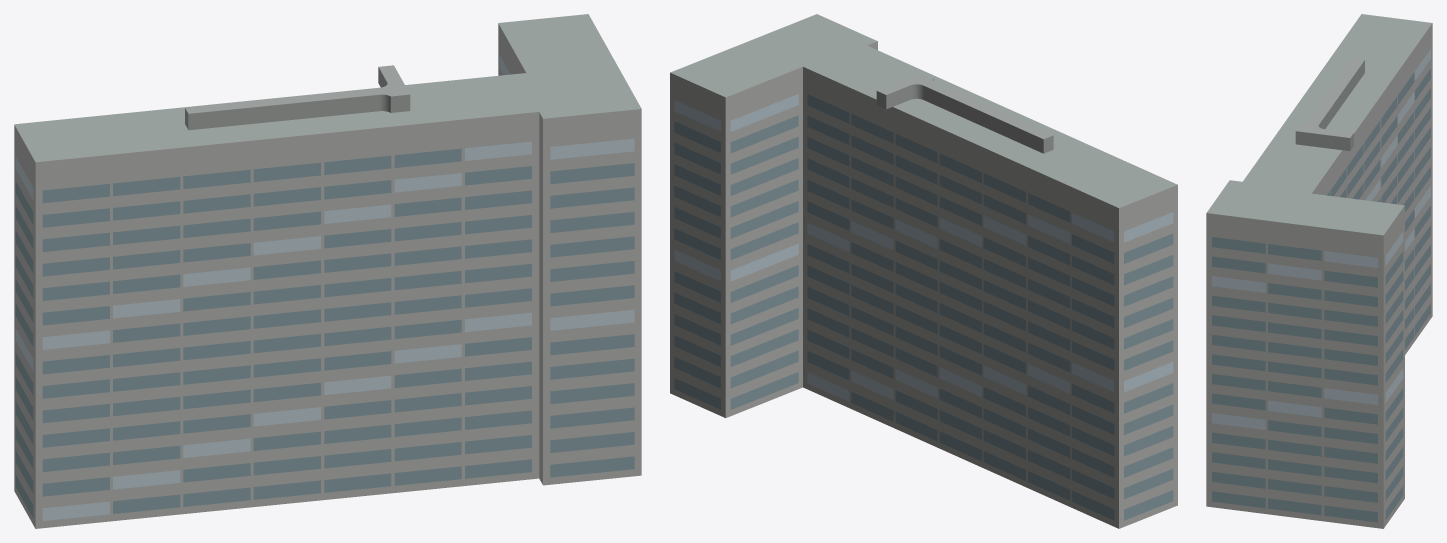
The model's file is fallback-olympic-park-foreon-403.glb.
3 renders of one model, left to right at view 1: azimuth 30°, elevation 25°; view 2: azimuth 150°, elevation 25°; view 3: azimuth 270°, elevation 25°, orthographic. The views are drawn at different scales.
Parts seen in each view (by area): view 1: fallback-olympic-park-foreon-403; view 2: fallback-olympic-park-foreon-403; view 3: fallback-olympic-park-foreon-403.
Boxes of the visible parts, x1,y1,x2,y2 form: fallback-olympic-park-foreon-403: (14, 14, 641, 528); fallback-olympic-park-foreon-403: (670, 14, 1177, 528); fallback-olympic-park-foreon-403: (1206, 14, 1432, 528).
Size of the model in its own units: 74 by 47.81 by 31.93.
